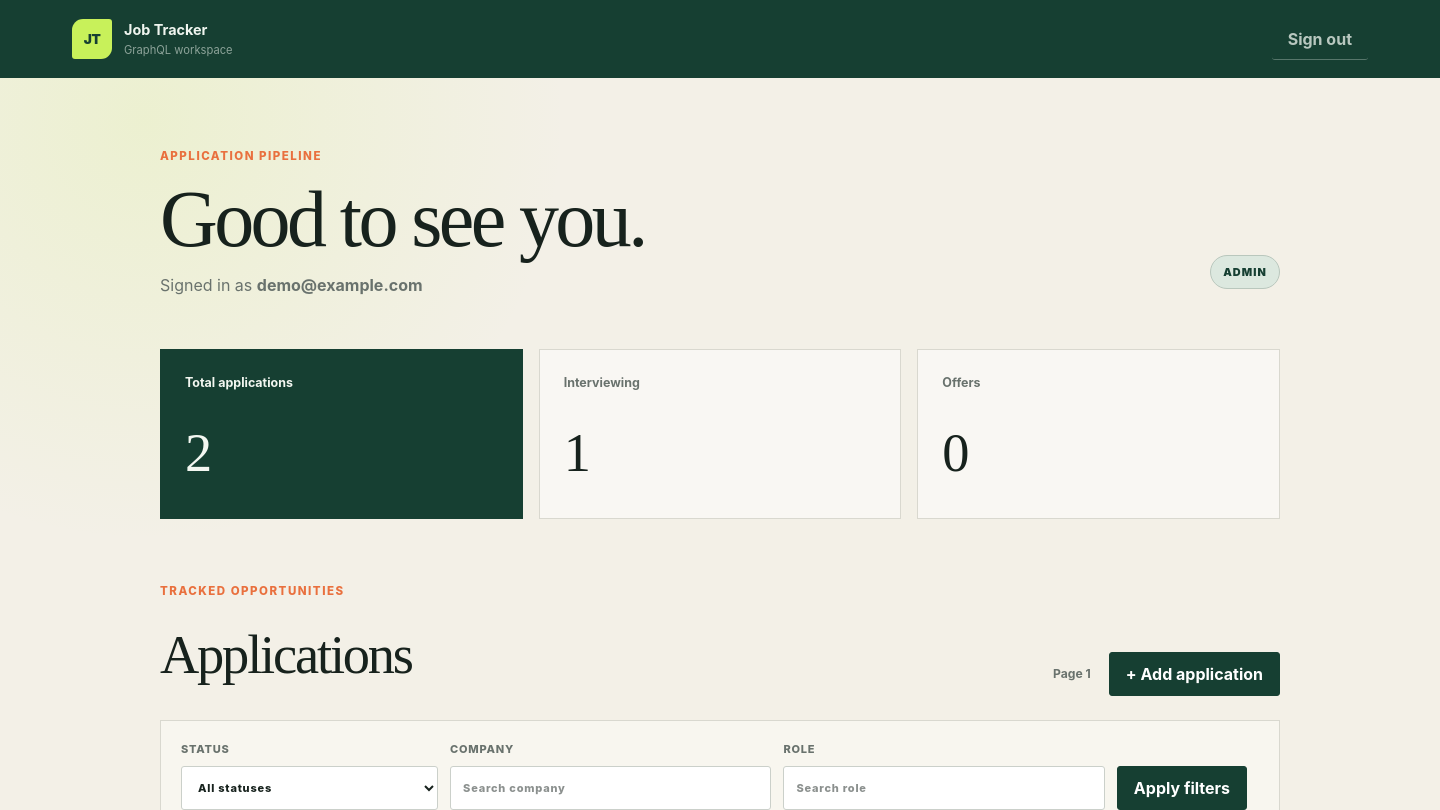
AuthenticatedHome › renders summary data and applies a status filter
expect the text "Total applications" shows "2": met, box top-left (185, 423), bottom-right (212, 483)
Select "Interviewing" in the dropdown labelled "Status": (310, 788) top-left (181, 766), bottom-right (438, 809)
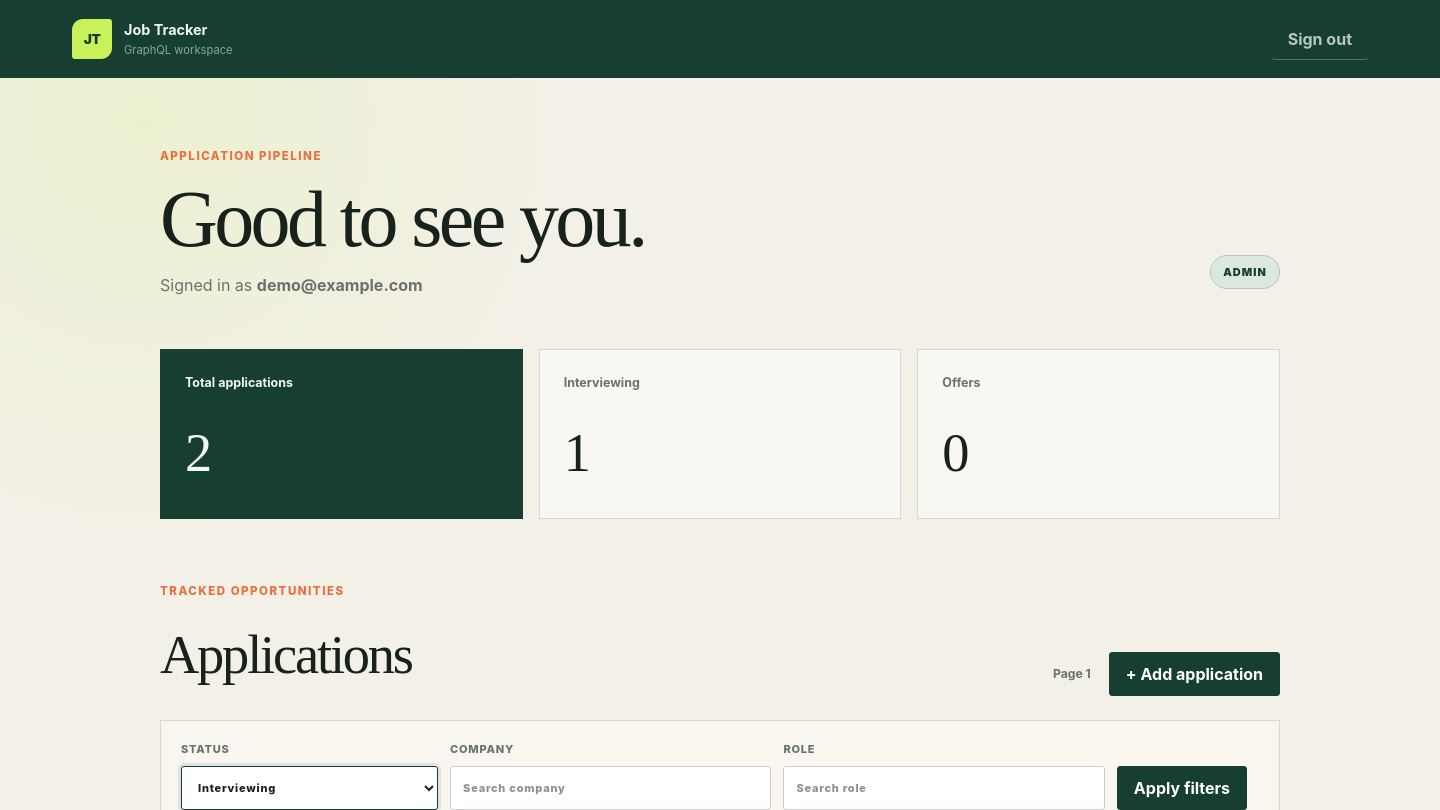
Click the button "Apply filters": (1182, 788) top-left (1117, 766), bottom-right (1247, 809)
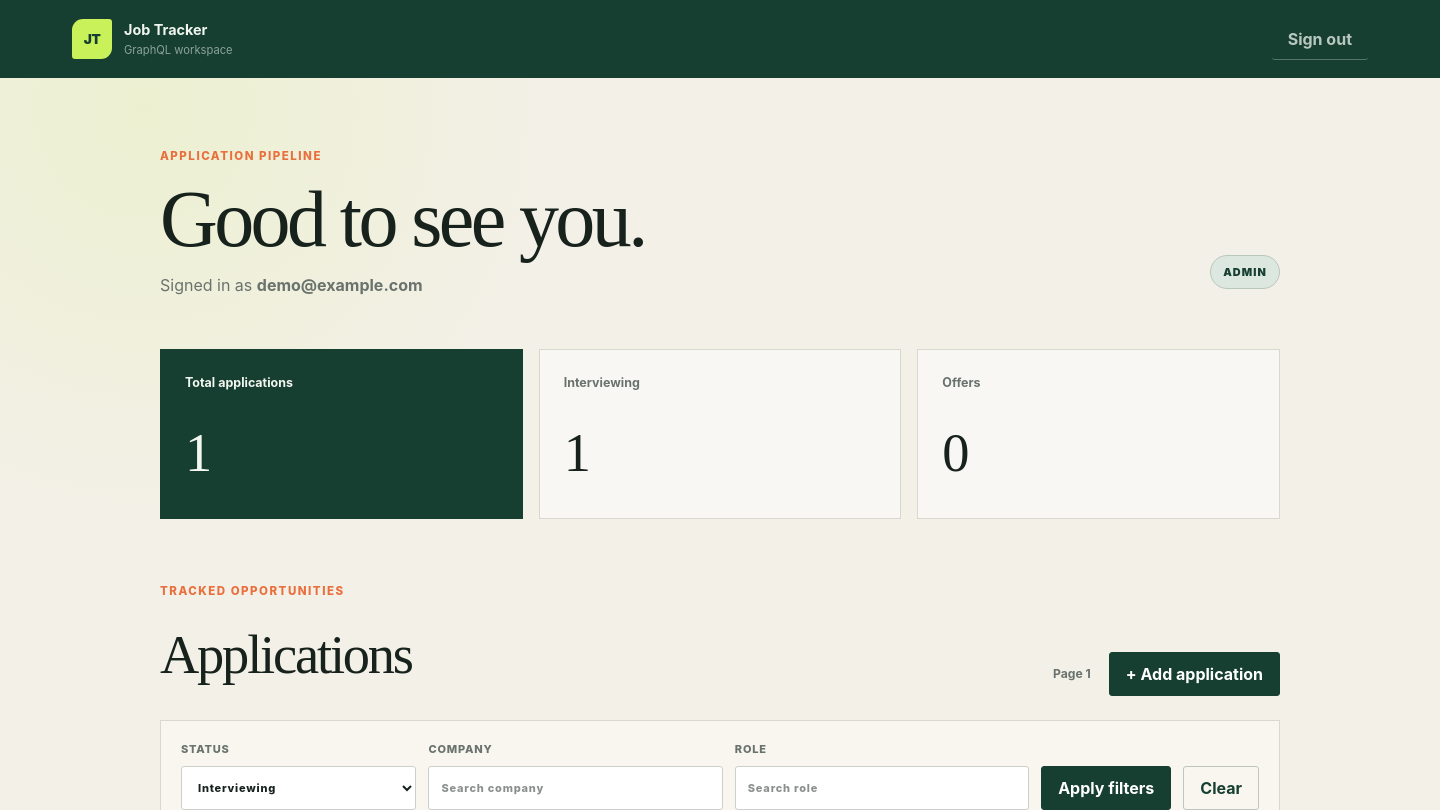
expect the button "Clear" is shown: met, box top-left (1183, 766), bottom-right (1259, 809)
